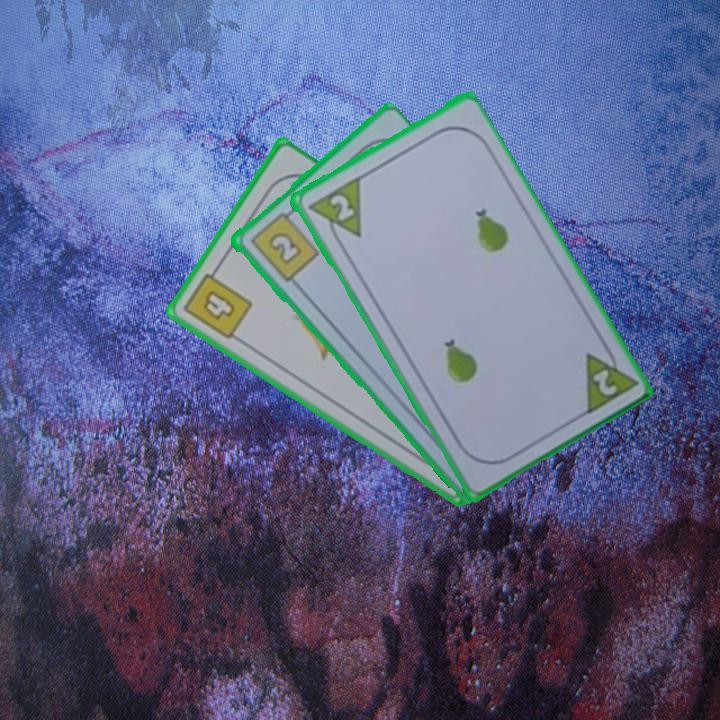2b: (246, 205, 321, 285)
2p: (579, 338, 639, 418), (303, 173, 364, 251)
4b: (179, 261, 255, 343)
